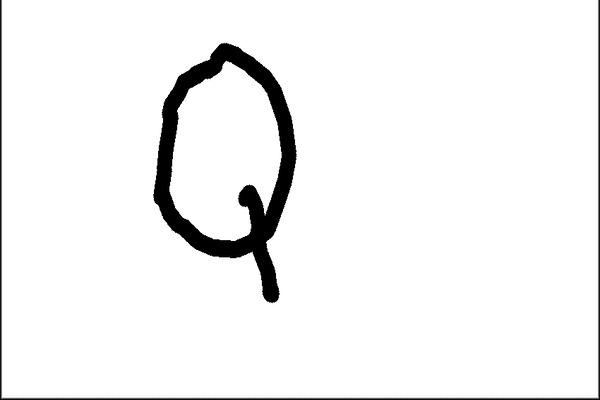Q: (135, 35, 308, 313)
